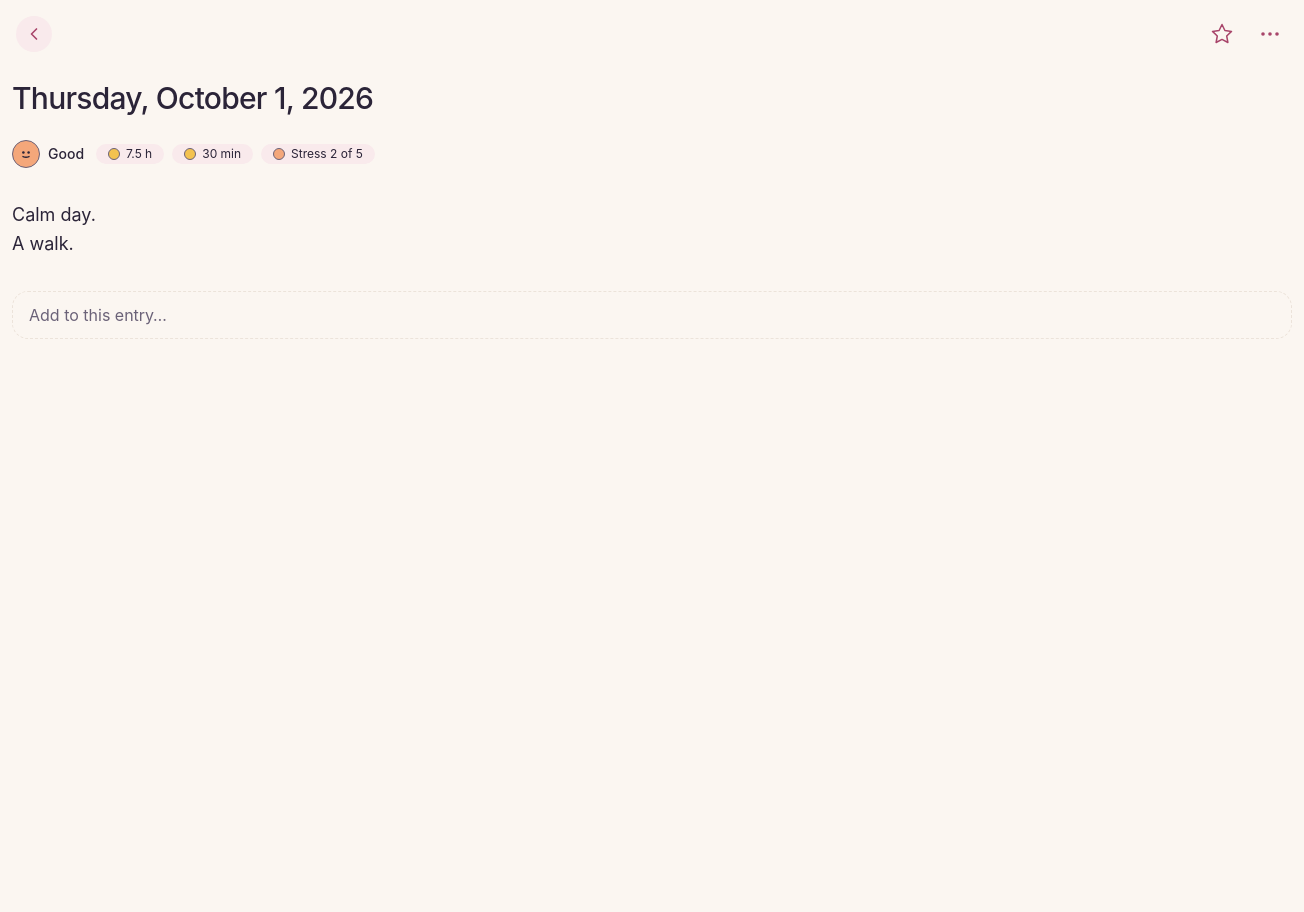
EntryScreen: the view › Cancel goes back to the view, focus on the date; Back still goes where the entry was opened from
The width and height of the screenshot is (1304, 912).
Click the button with test id "entry-add-more". click: [98, 314]
box: [12, 290, 1292, 338]
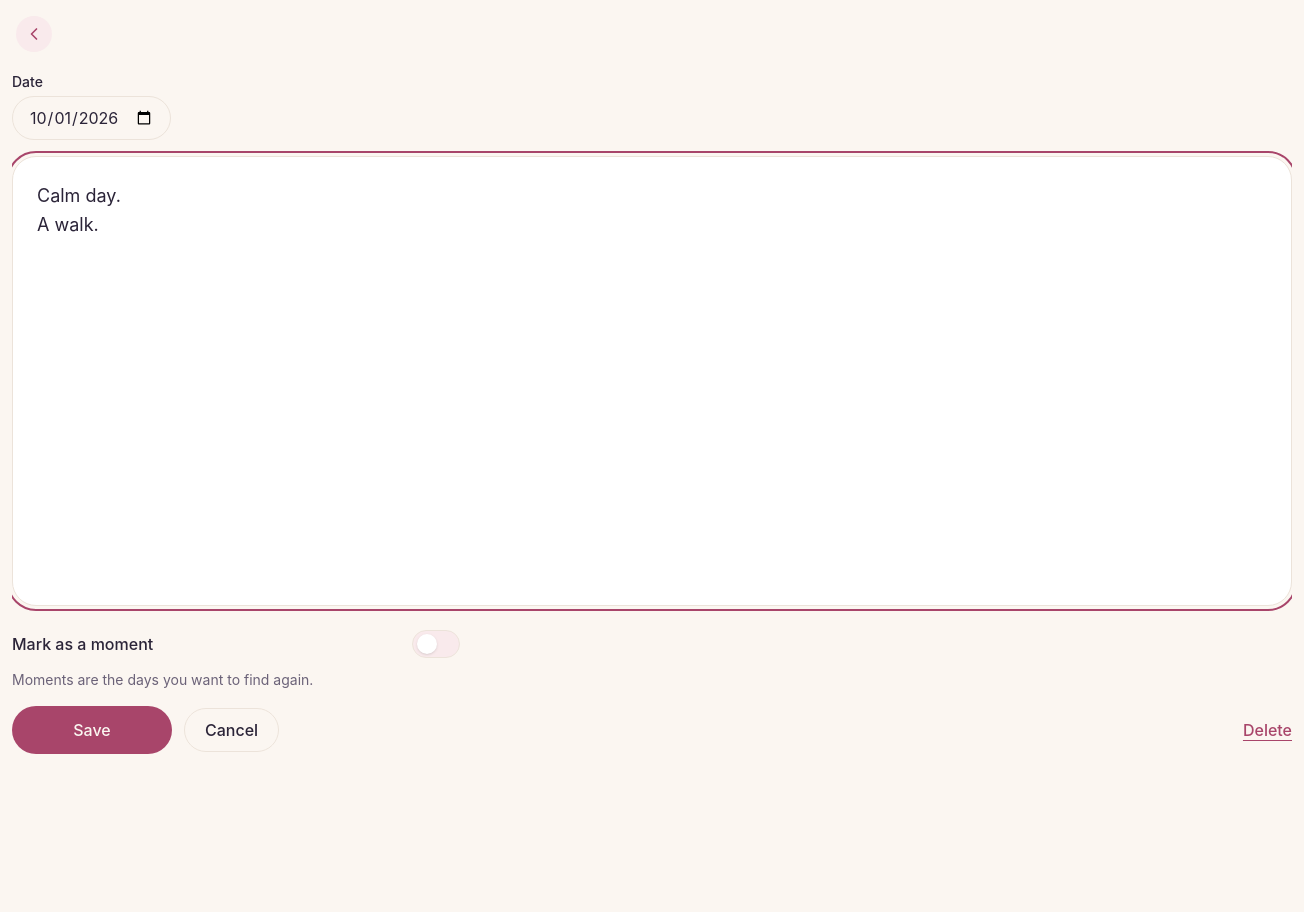
Click the button with test id "entry-cancel". click: [232, 730]
box: [184, 708, 279, 752]
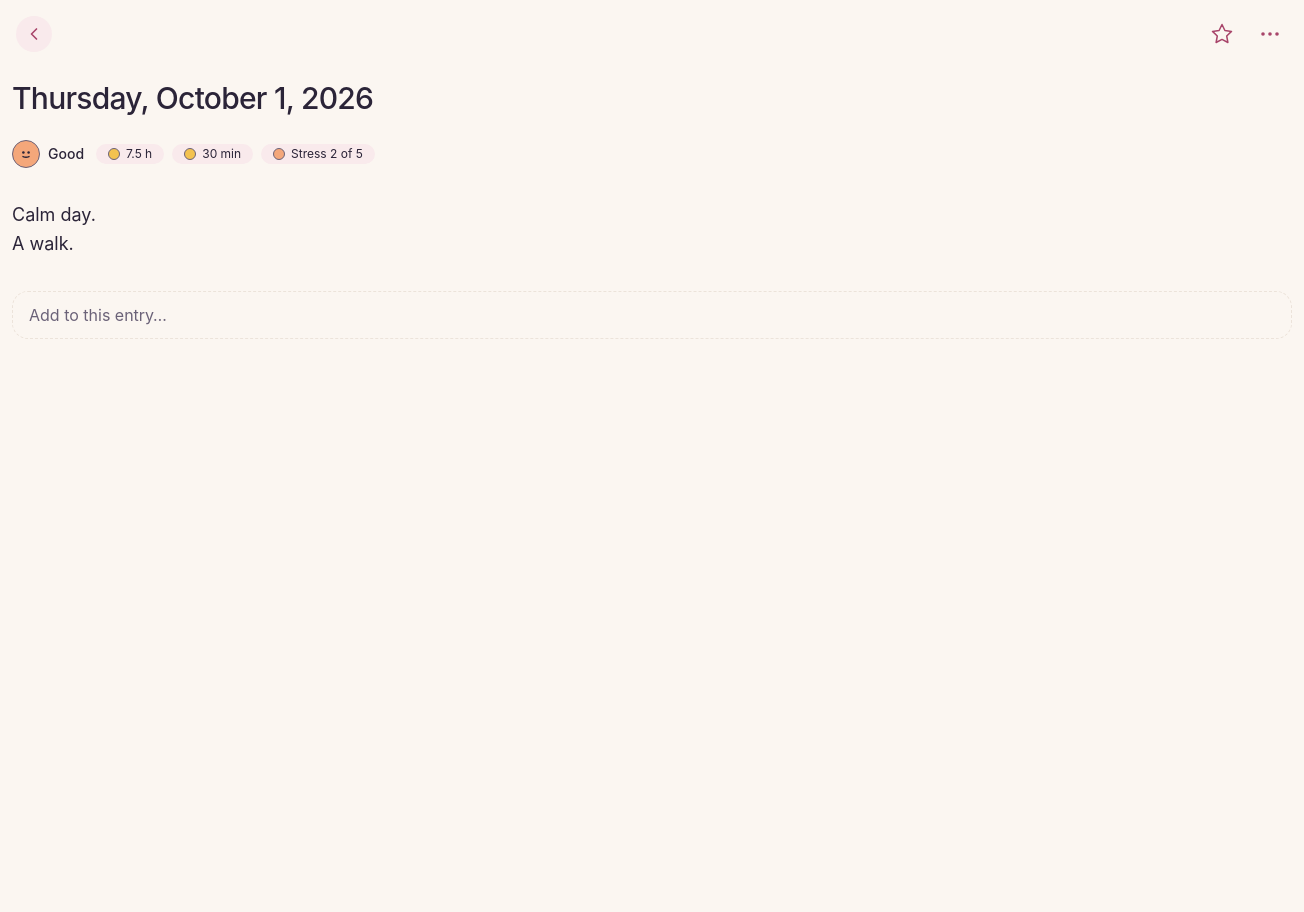
Expected: the text box with test id "entry-text" is gone
